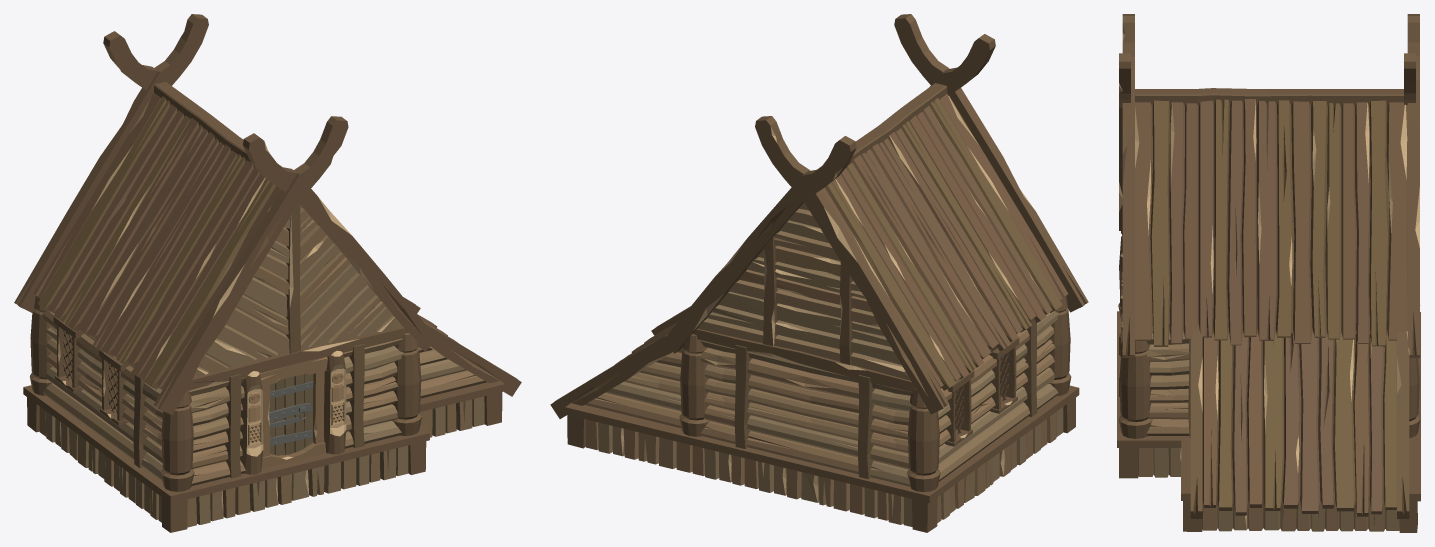
File: rpghouse3.obj
3 renders of one model, left to right at view 1: azimuth 30°, elevation 25°; view 2: azimuth 150°, elevation 25°; view 3: azimuth 270°, elevation 25°, orthographic. The views are drawn at different scales.
Parts seen in each view (by area): view 1: rpgpp_lt_building_03; view 2: rpgpp_lt_building_03; view 3: rpgpp_lt_building_03.
Boxes of the visible parts, box(x1,y1,x2,y2) form: rpgpp_lt_building_03: box(14, 14, 521, 532); rpgpp_lt_building_03: box(550, 14, 1088, 532); rpgpp_lt_building_03: box(1117, 14, 1420, 532).
Size of the model in its own units: 11.94 by 10.7 by 7.74.
Materials: 1 (1 with a texture image).
